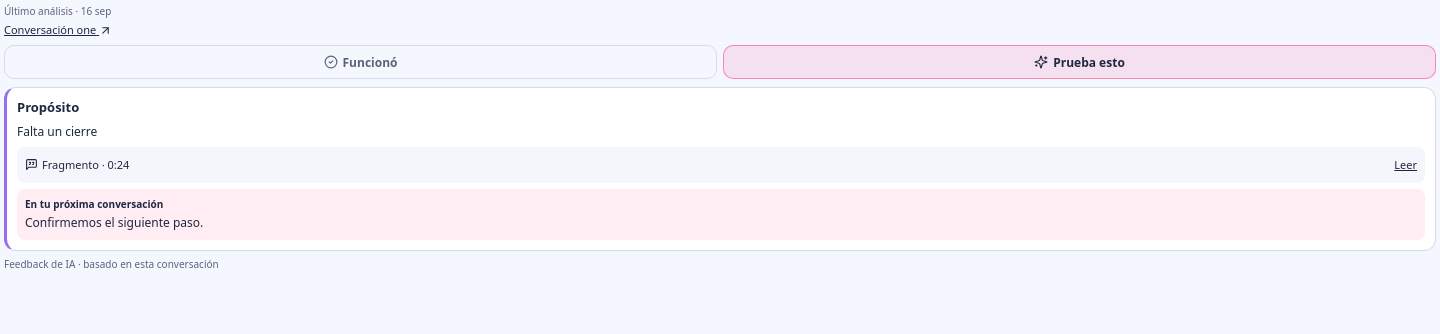
Test case: switches feedback, verifies a quote and offers transcript context without a fake audio control
Click the heading "Fragmento · 0:24 Leer" at point(86, 164), box 25,153 -> 1417,177
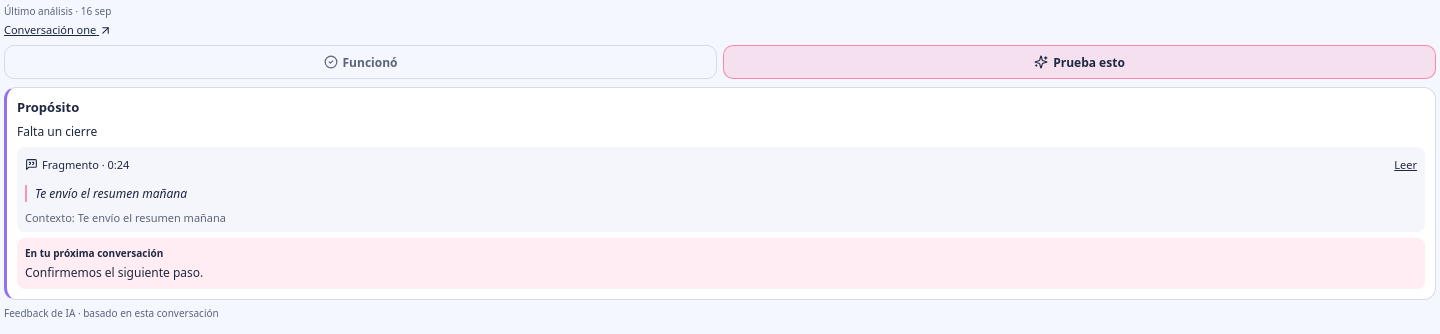
expect the text "Contexto: Te envío el resumen mañana" is shown: met, box 25,210 -> 226,225
Click the button "Funcionó" at point(360, 62), box 4,45 -> 717,79
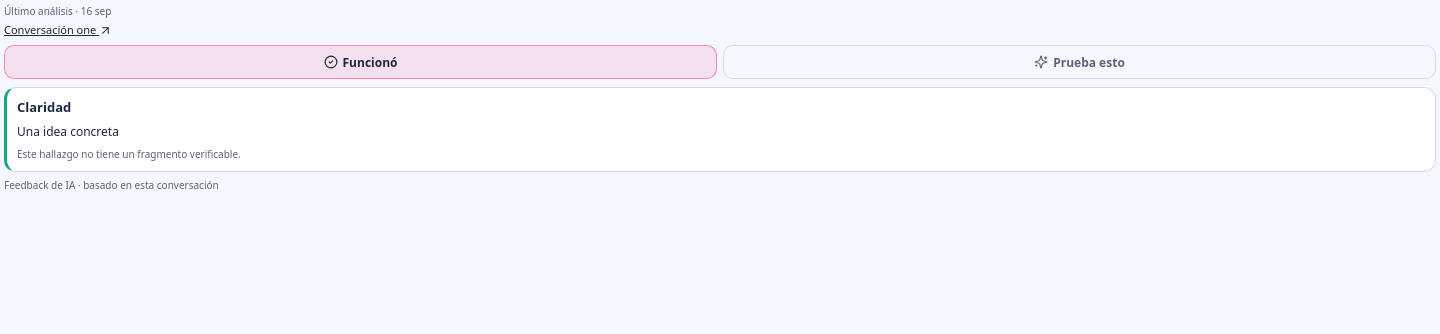
expect the text "Una idea concreta" is shown: met, box 17,123 -> 119,140
expect the text "Confirmemos el siguiente paso." is gone: met
